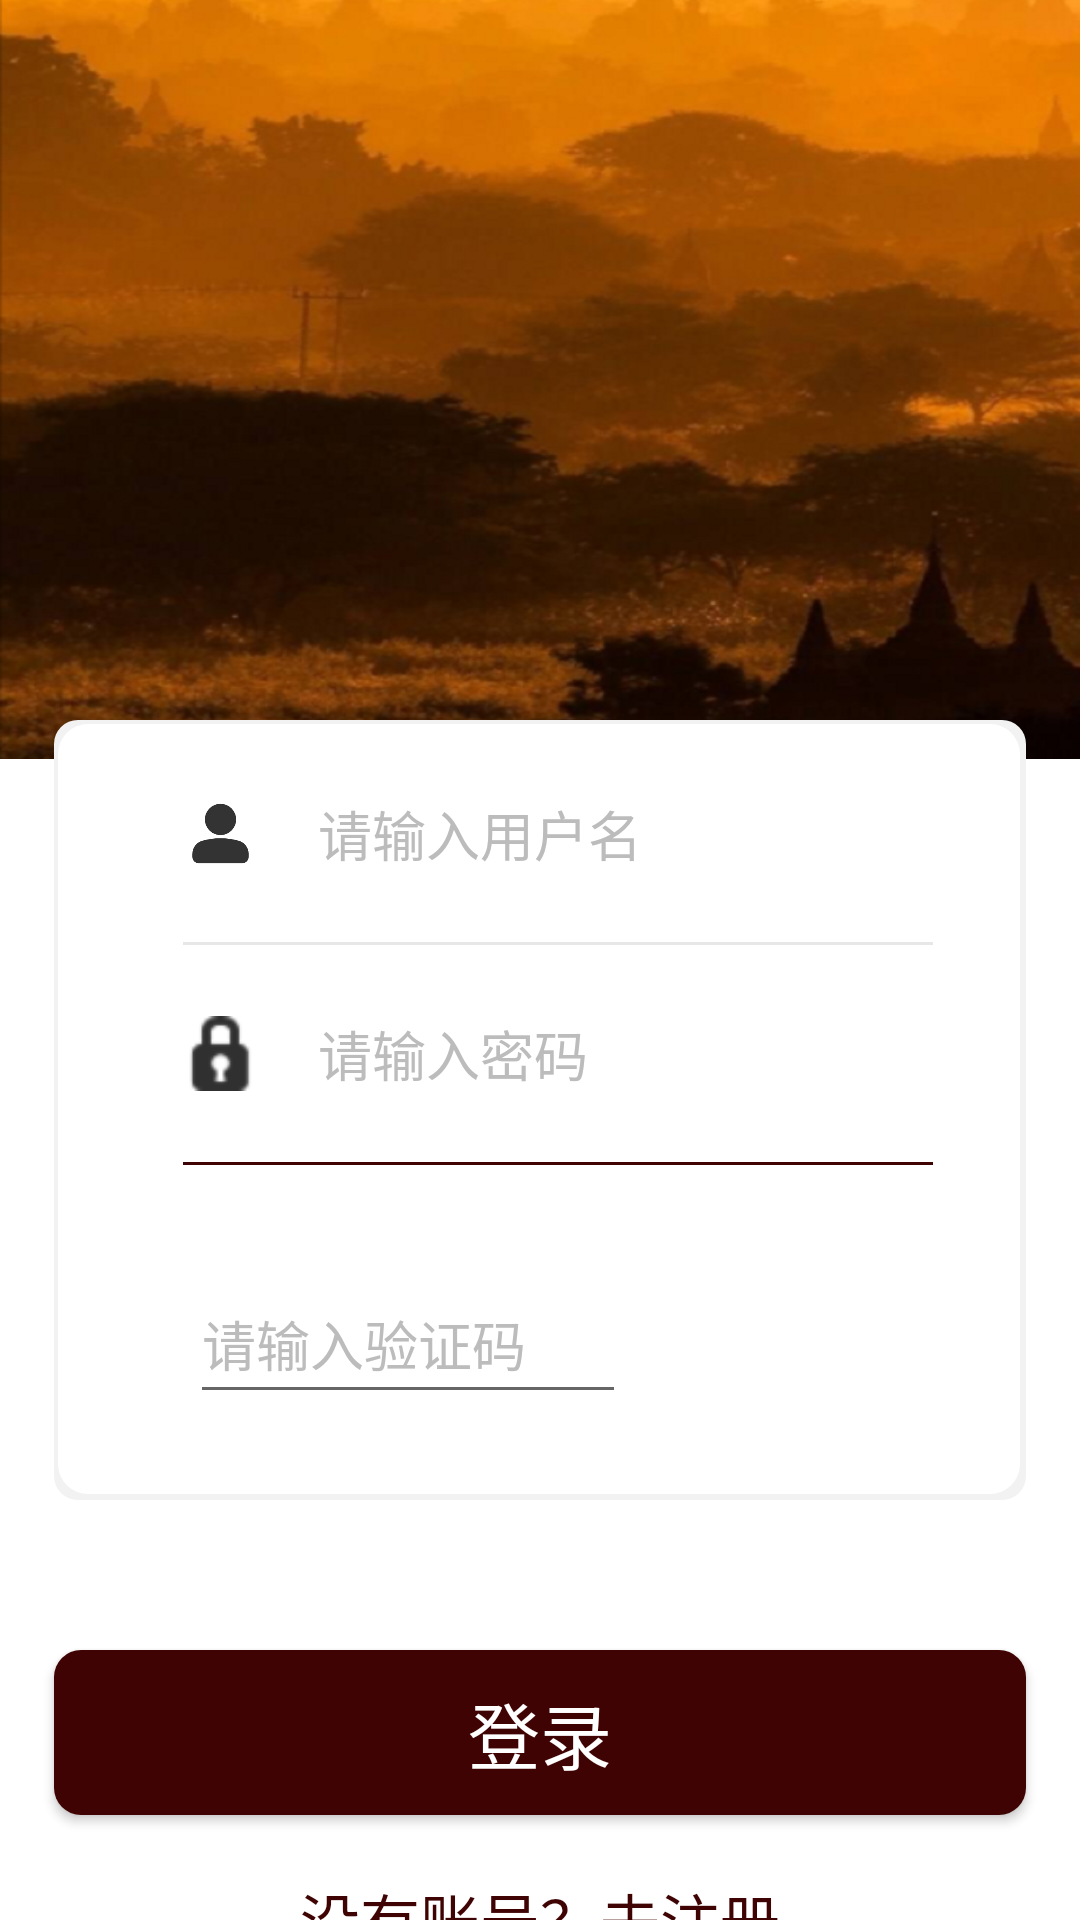

Locate icon controls on the screen. Image size 1080×1920, boxes as (x1, y1, x2, y2).
mine: (192, 804, 249, 863)
secure: (191, 1016, 250, 1091)
